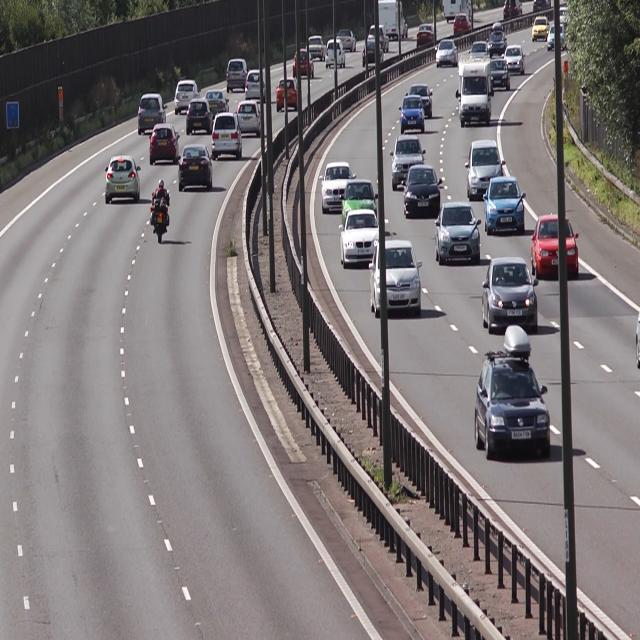Car: (479, 324, 554, 459), (480, 251, 538, 335), (369, 238, 422, 316), (530, 212, 580, 282), (434, 198, 482, 266), (339, 207, 392, 265), (484, 174, 527, 238), (459, 51, 495, 122), (467, 138, 505, 204), (399, 166, 445, 218), (388, 135, 428, 190), (104, 151, 143, 206), (320, 160, 360, 213), (176, 143, 218, 191), (212, 110, 244, 160), (136, 92, 171, 134), (400, 93, 430, 138), (149, 125, 180, 165), (186, 94, 212, 138), (409, 82, 439, 118), (236, 100, 264, 136), (277, 77, 301, 112), (434, 40, 461, 71), (491, 56, 512, 92), (227, 57, 248, 92)
